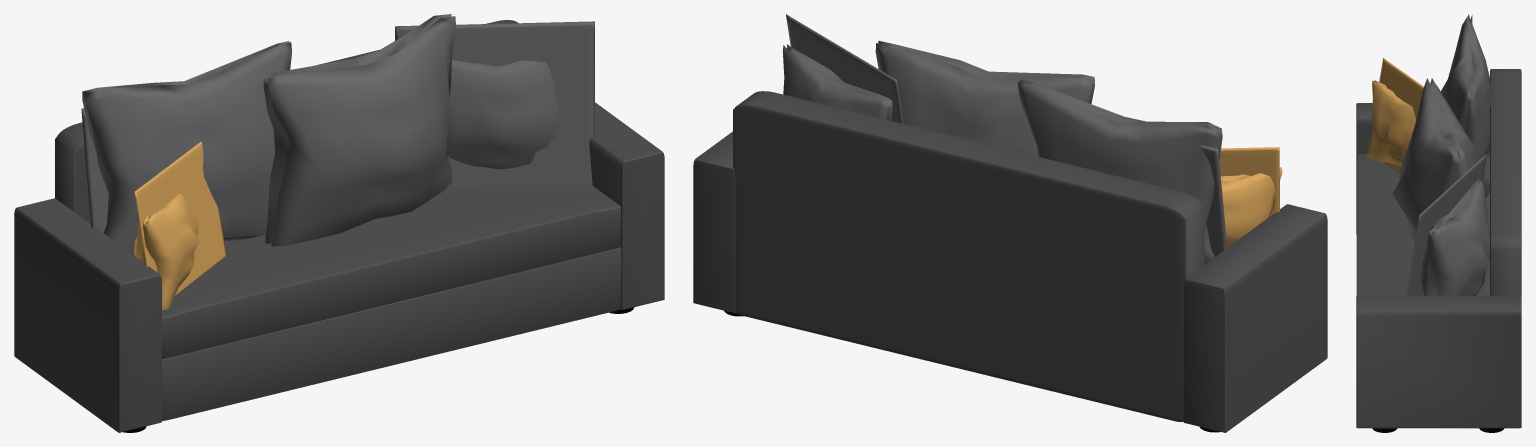
File: sofa3_ver1.glb
3 views of the same model, side by side, from view 1: azimuth 30°, elevation 25°; view 2: azimuth 150°, elevation 25°; view 3: azimuth 270°, elevation 25° (orthographic). The views are drawn at different scales.
Visible parts, largest first — view 1: Cube.004, Cube.006, Cube.003, Cube, Cube.005, Plane.002, Cube.007, Cube.001, Plane.004, Cube.008, Cube.002, Plane.003; view 2: Cube.002, Cube, Cube.005, Cube.006, Cube.001, Cube.007, Plane.002, Cube.008, Plane.004, Plane.003; view 3: Cube.001, Cube.002, Cube.004, Cube.006, Cube.007, Cube.005, Cube.008, Plane.002, Plane.004, Cube, Cylinder.001.
Part boxes in pixels (left/top/right/bottom): Cube.004: left=162, top=184, right=621, bottom=358; Cube.006: left=263, top=14, right=455, bottom=246; Cube.003: left=162, top=247, right=621, bottom=420; Cube: left=14, top=198, right=161, bottom=432; Cube.005: left=82, top=41, right=291, bottom=255; Plane.002: left=395, top=21, right=594, bottom=187; Cube.007: left=446, top=60, right=558, bottom=169; Cube.001: left=589, top=102, right=664, bottom=310; Plane.004: left=134, top=141, right=226, bottom=295; Cube.008: left=134, top=194, right=199, bottom=310; Cube.002: left=55, top=20, right=518, bottom=223; Plane.003: left=81, top=108, right=108, bottom=232; Cube.002: left=733, top=91, right=1204, bottom=421; Cube: left=1183, top=204, right=1327, bottom=432; Cube.005: left=1018, top=79, right=1222, bottom=263; Cube.006: left=875, top=40, right=1094, bottom=155; Cube.001: left=693, top=131, right=735, bottom=313; Cube.007: left=782, top=44, right=892, bottom=120; Plane.002: left=786, top=14, right=903, bottom=123; Cube.008: left=1220, top=167, right=1282, bottom=247; Plane.004: left=1219, top=147, right=1279, bottom=216; Plane.003: left=1201, top=145, right=1227, bottom=256; Cube.001: left=1356, top=296, right=1521, bottom=428; Cube.002: left=1490, top=69, right=1521, bottom=296; Cube.004: left=1356, top=154, right=1489, bottom=295; Cube.006: left=1392, top=78, right=1489, bottom=242; Cube.007: left=1420, top=178, right=1489, bottom=295; Cube.005: left=1441, top=14, right=1491, bottom=159; Cube.008: left=1368, top=80, right=1416, bottom=165; Plane.002: left=1407, top=153, right=1486, bottom=296; Plane.004: left=1367, top=58, right=1423, bottom=173; Cube: left=1356, top=103, right=1489, bottom=234; Cylinder.001: left=1372, top=428, right=1504, bottom=432.
Bounding box in the file's own units: 2.02 × 1.04 × 0.6761.
